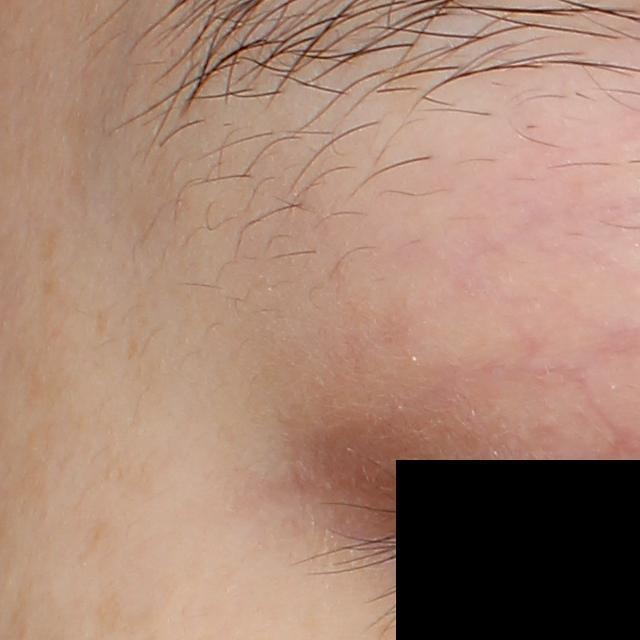melasma: (95, 593, 159, 640)
